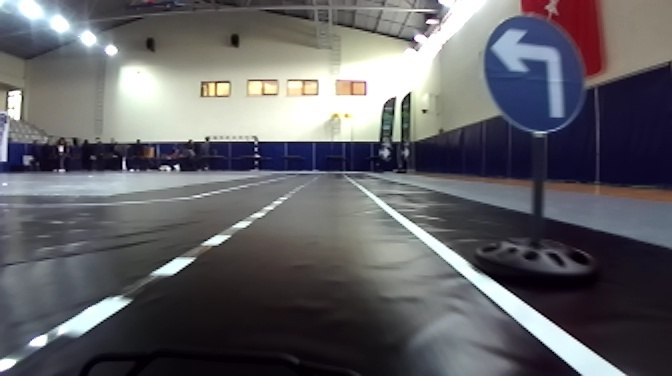sola_donus: (476, 17, 594, 133)
